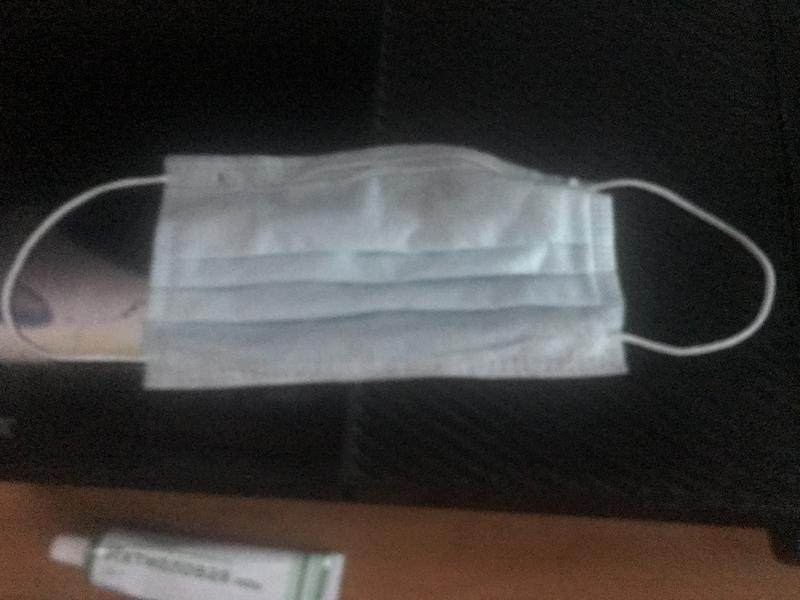medical_mask: (5, 148, 779, 381)
